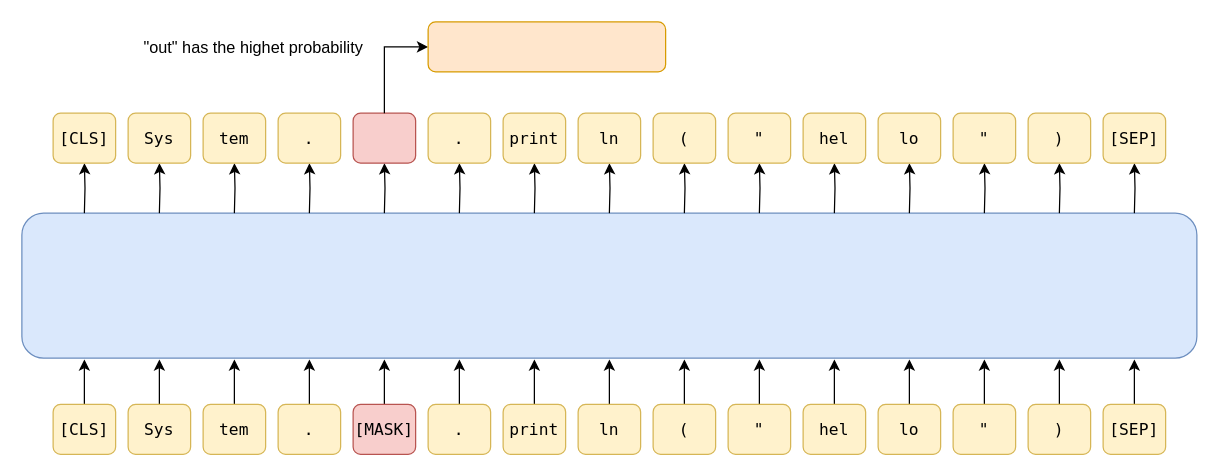
The diagram is 1219 pixels wide and 476 high, and some of its shapes have lost their labels. The shapes that lost their labels are listed below. From the top down, each one's centre as x and y in pixels, then its label:
At (546,46): "out , err, in, ...".
At (609,285): "JavaBERT (Masked Language Model)".
